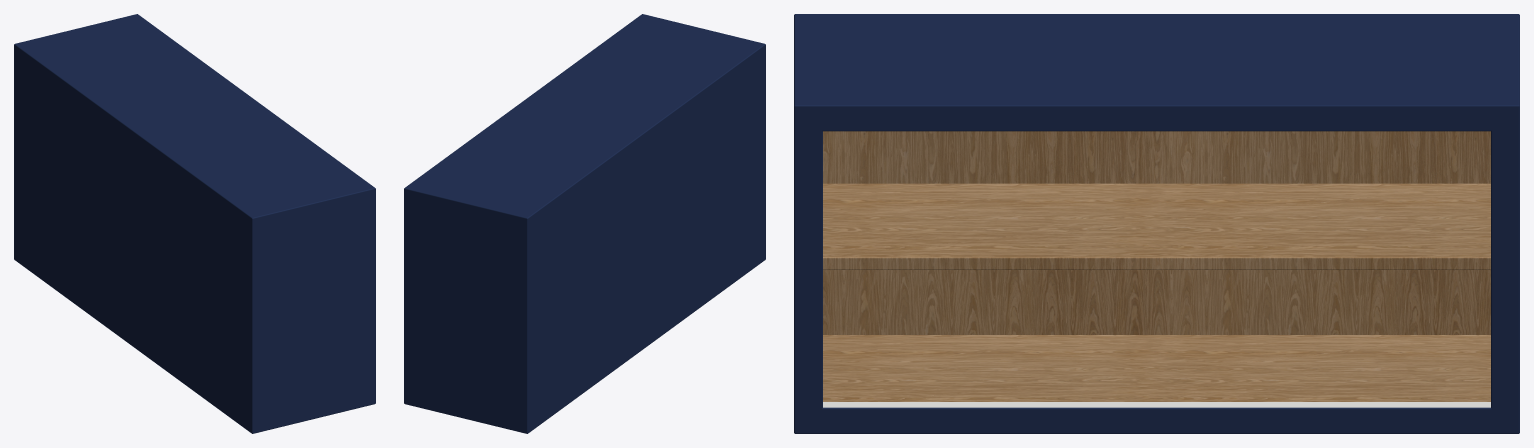
File: cabinet_box.glb
3 renders of one model, left to right at view 1: azimuth 30°, elevation 25°; view 2: azimuth 150°, elevation 25°; view 3: azimuth 270°, elevation 25°, orthographic. The views are drawn at different scales.
Size of the model in its own units: 0.3 by 0.5 by 1.
3 materials, 1 textured.
